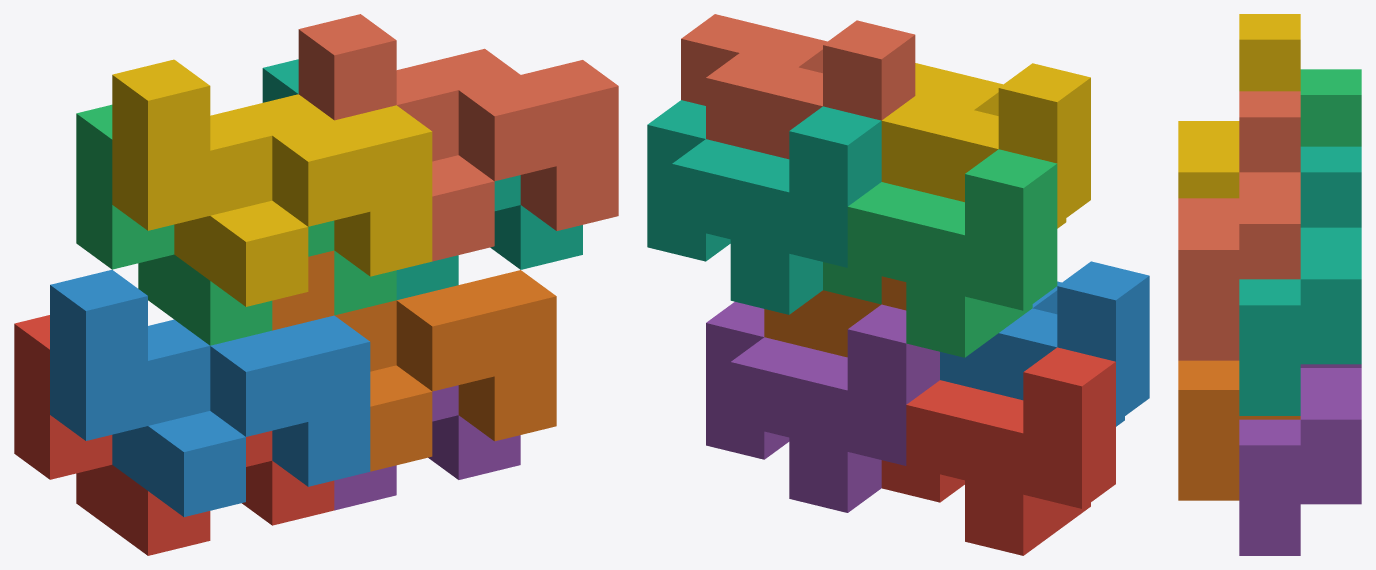
Rendered from tiling.obj.
3 renders of one model, left to right at view 1: azimuth 30°, elevation 25°; view 2: azimuth 150°, elevation 25°; view 3: azimuth 270°, elevation 25°, orthographic. The views are drawn at different scales.
Visible parts, largest first — view 1: copy_1_domain_4, copy_1_domain_2, copy_1_domain_8, copy_1_domain_6, copy_1_domain_1, copy_1_domain_3, copy_1_domain_7, copy_1_domain_5; view 2: copy_1_domain_7, copy_1_domain_5, copy_1_domain_1, copy_1_domain_3, copy_1_domain_8, copy_1_domain_4, copy_1_domain_2, copy_1_domain_6; view 3: copy_1_domain_7, copy_1_domain_8, copy_1_domain_5, copy_1_domain_4, copy_1_domain_6, copy_1_domain_3.
Boxes of the visible parts, left/top/right/bottom form: copy_1_domain_4: left=112, top=59, right=432, bottom=306; copy_1_domain_2: left=50, top=270, right=370, bottom=516; copy_1_domain_8: left=298, top=14, right=618, bottom=261; copy_1_domain_6: left=272, top=250, right=556, bottom=471; copy_1_domain_1: left=14, top=315, right=334, bottom=555; copy_1_domain_3: left=76, top=104, right=396, bottom=345; copy_1_domain_7: left=262, top=59, right=582, bottom=299; copy_1_domain_5: left=334, top=385, right=520, bottom=510; copy_1_domain_7: left=647, top=100, right=881, bottom=314; copy_1_domain_5: left=706, top=302, right=939, bottom=512; copy_1_domain_1: left=881, top=347, right=1115, bottom=555; copy_1_domain_3: left=823, top=149, right=1057, bottom=357; copy_1_domain_8: left=681, top=14, right=915, bottom=159; copy_1_domain_4: left=881, top=63, right=1090, bottom=228; copy_1_domain_2: left=940, top=261, right=1149, bottom=426; copy_1_domain_6: left=764, top=276, right=906, bottom=357; copy_1_domain_7: left=1239, top=146, right=1361, bottom=415; copy_1_domain_8: left=1178, top=91, right=1300, bottom=360; copy_1_domain_5: left=1239, top=364, right=1361, bottom=555; copy_1_domain_4: left=1178, top=14, right=1300, bottom=198; copy_1_domain_6: left=1178, top=360, right=1300, bottom=500; copy_1_domain_3: left=1300, top=69, right=1361, bottom=146.
Bounding box in the file's own units: 8 × 7 × 3.
